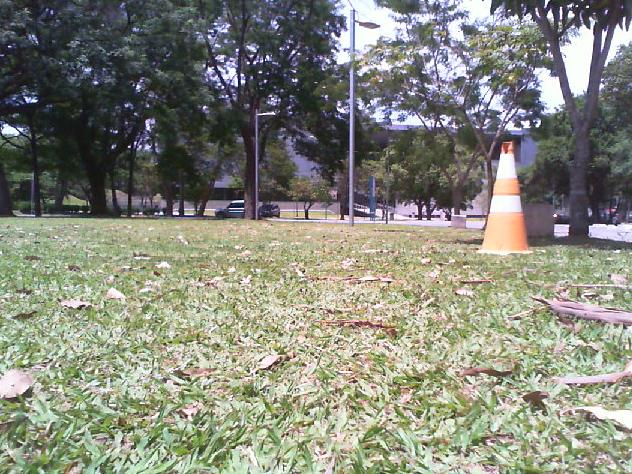0 cone: (475, 142, 533, 256)
